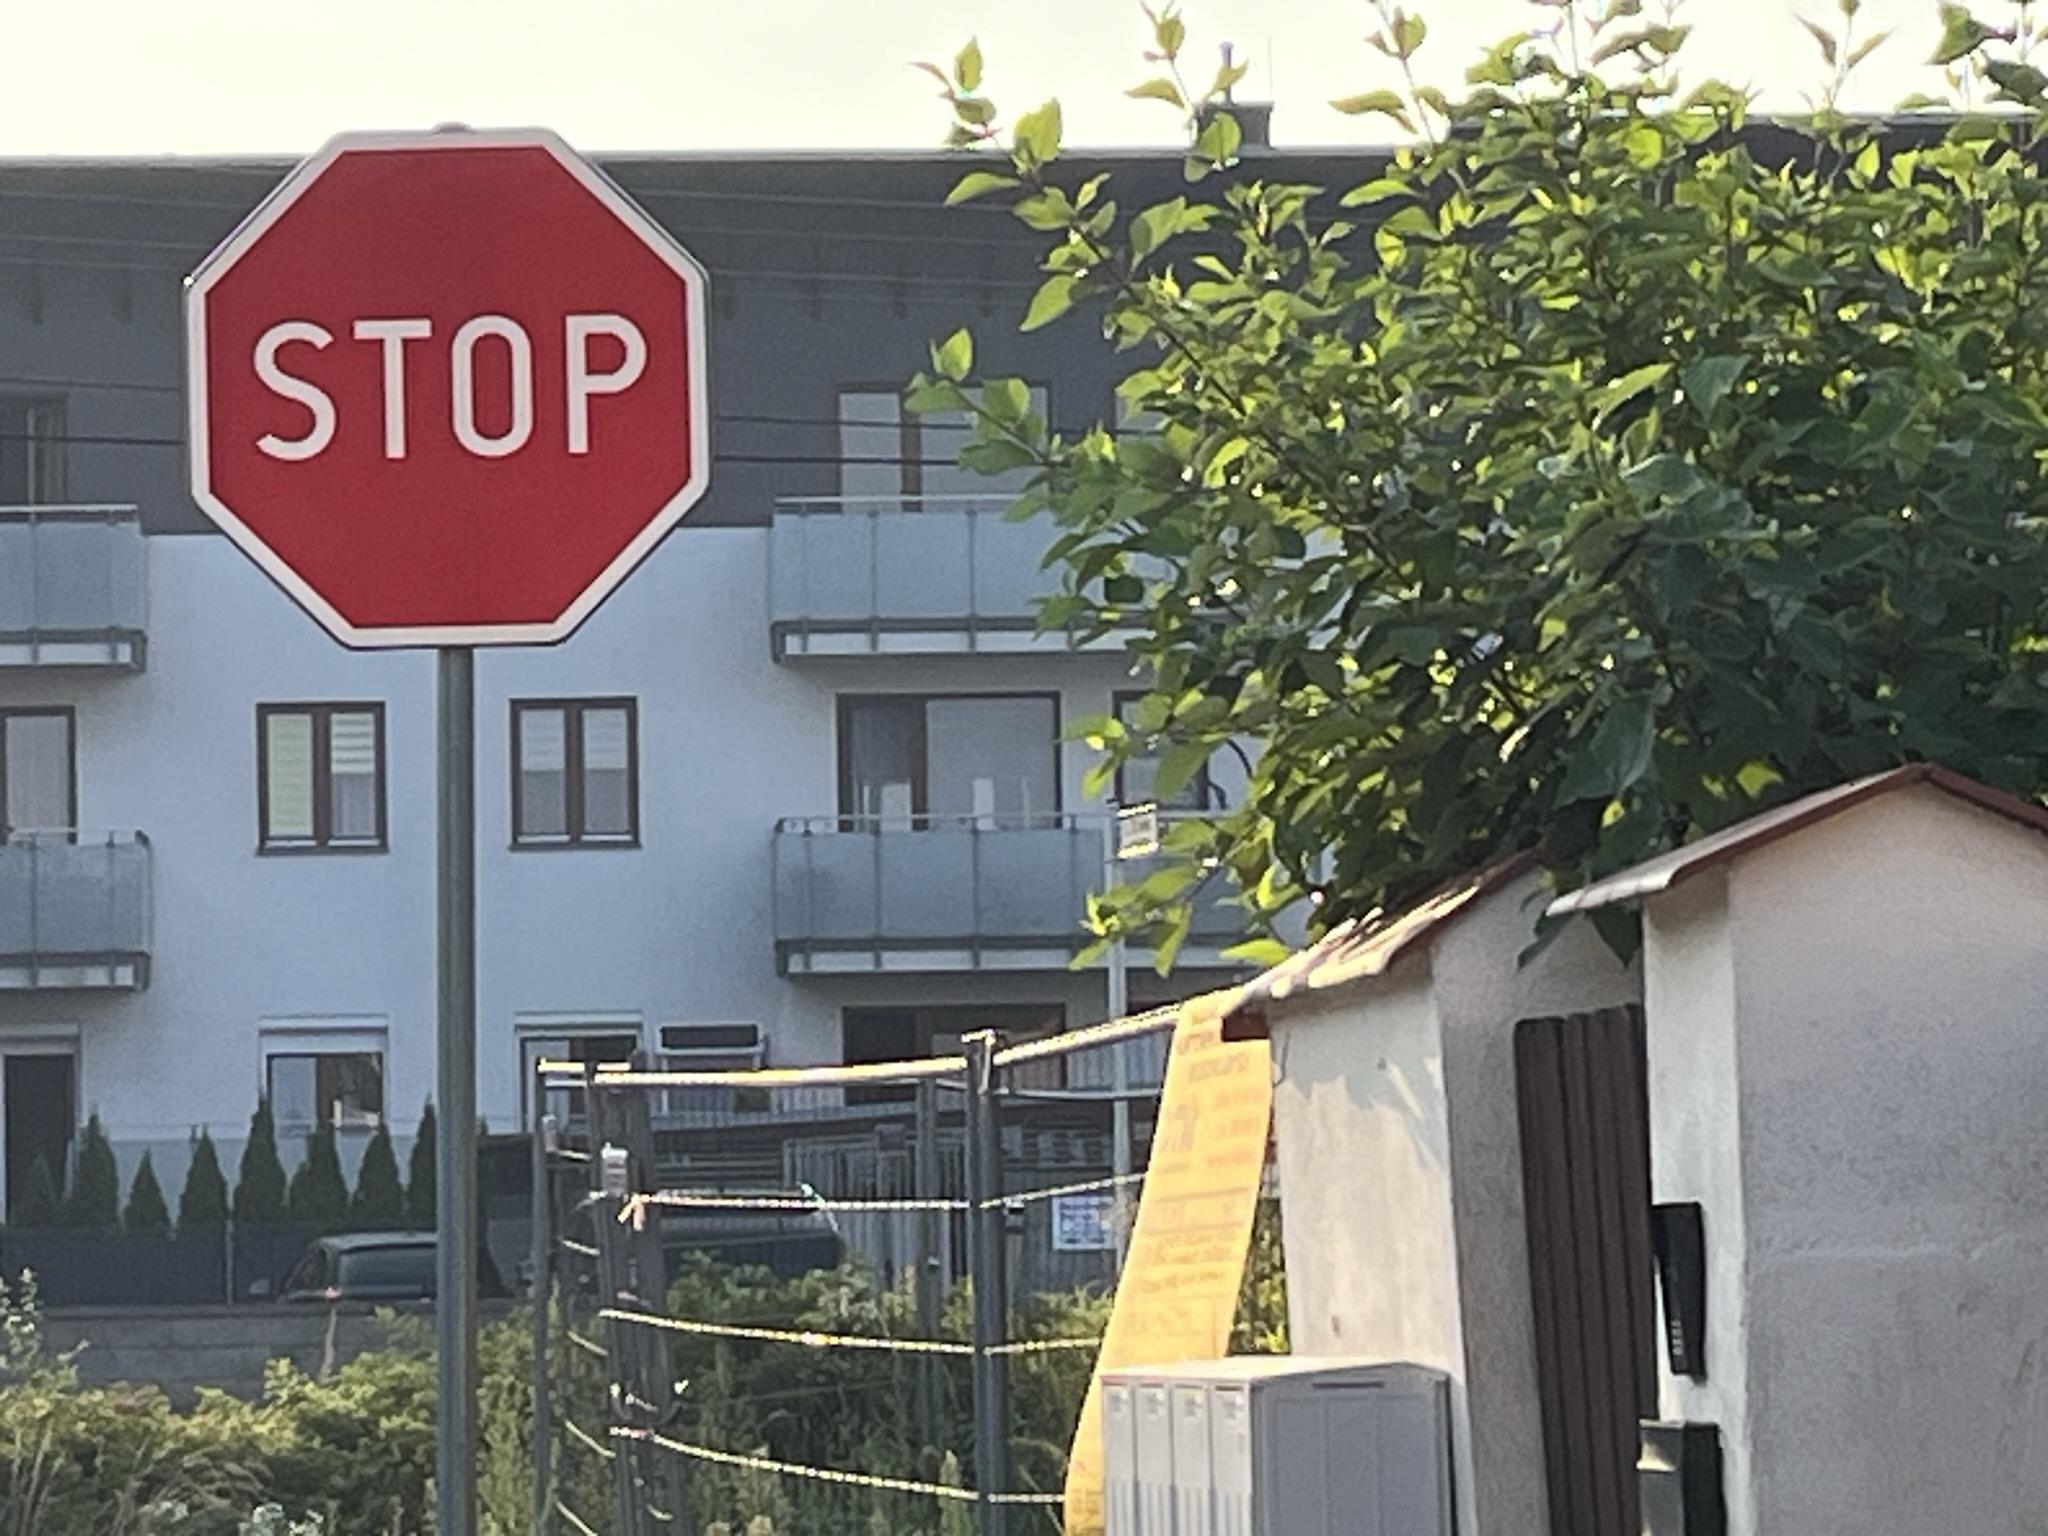prohibitory: (182, 123, 714, 645)
